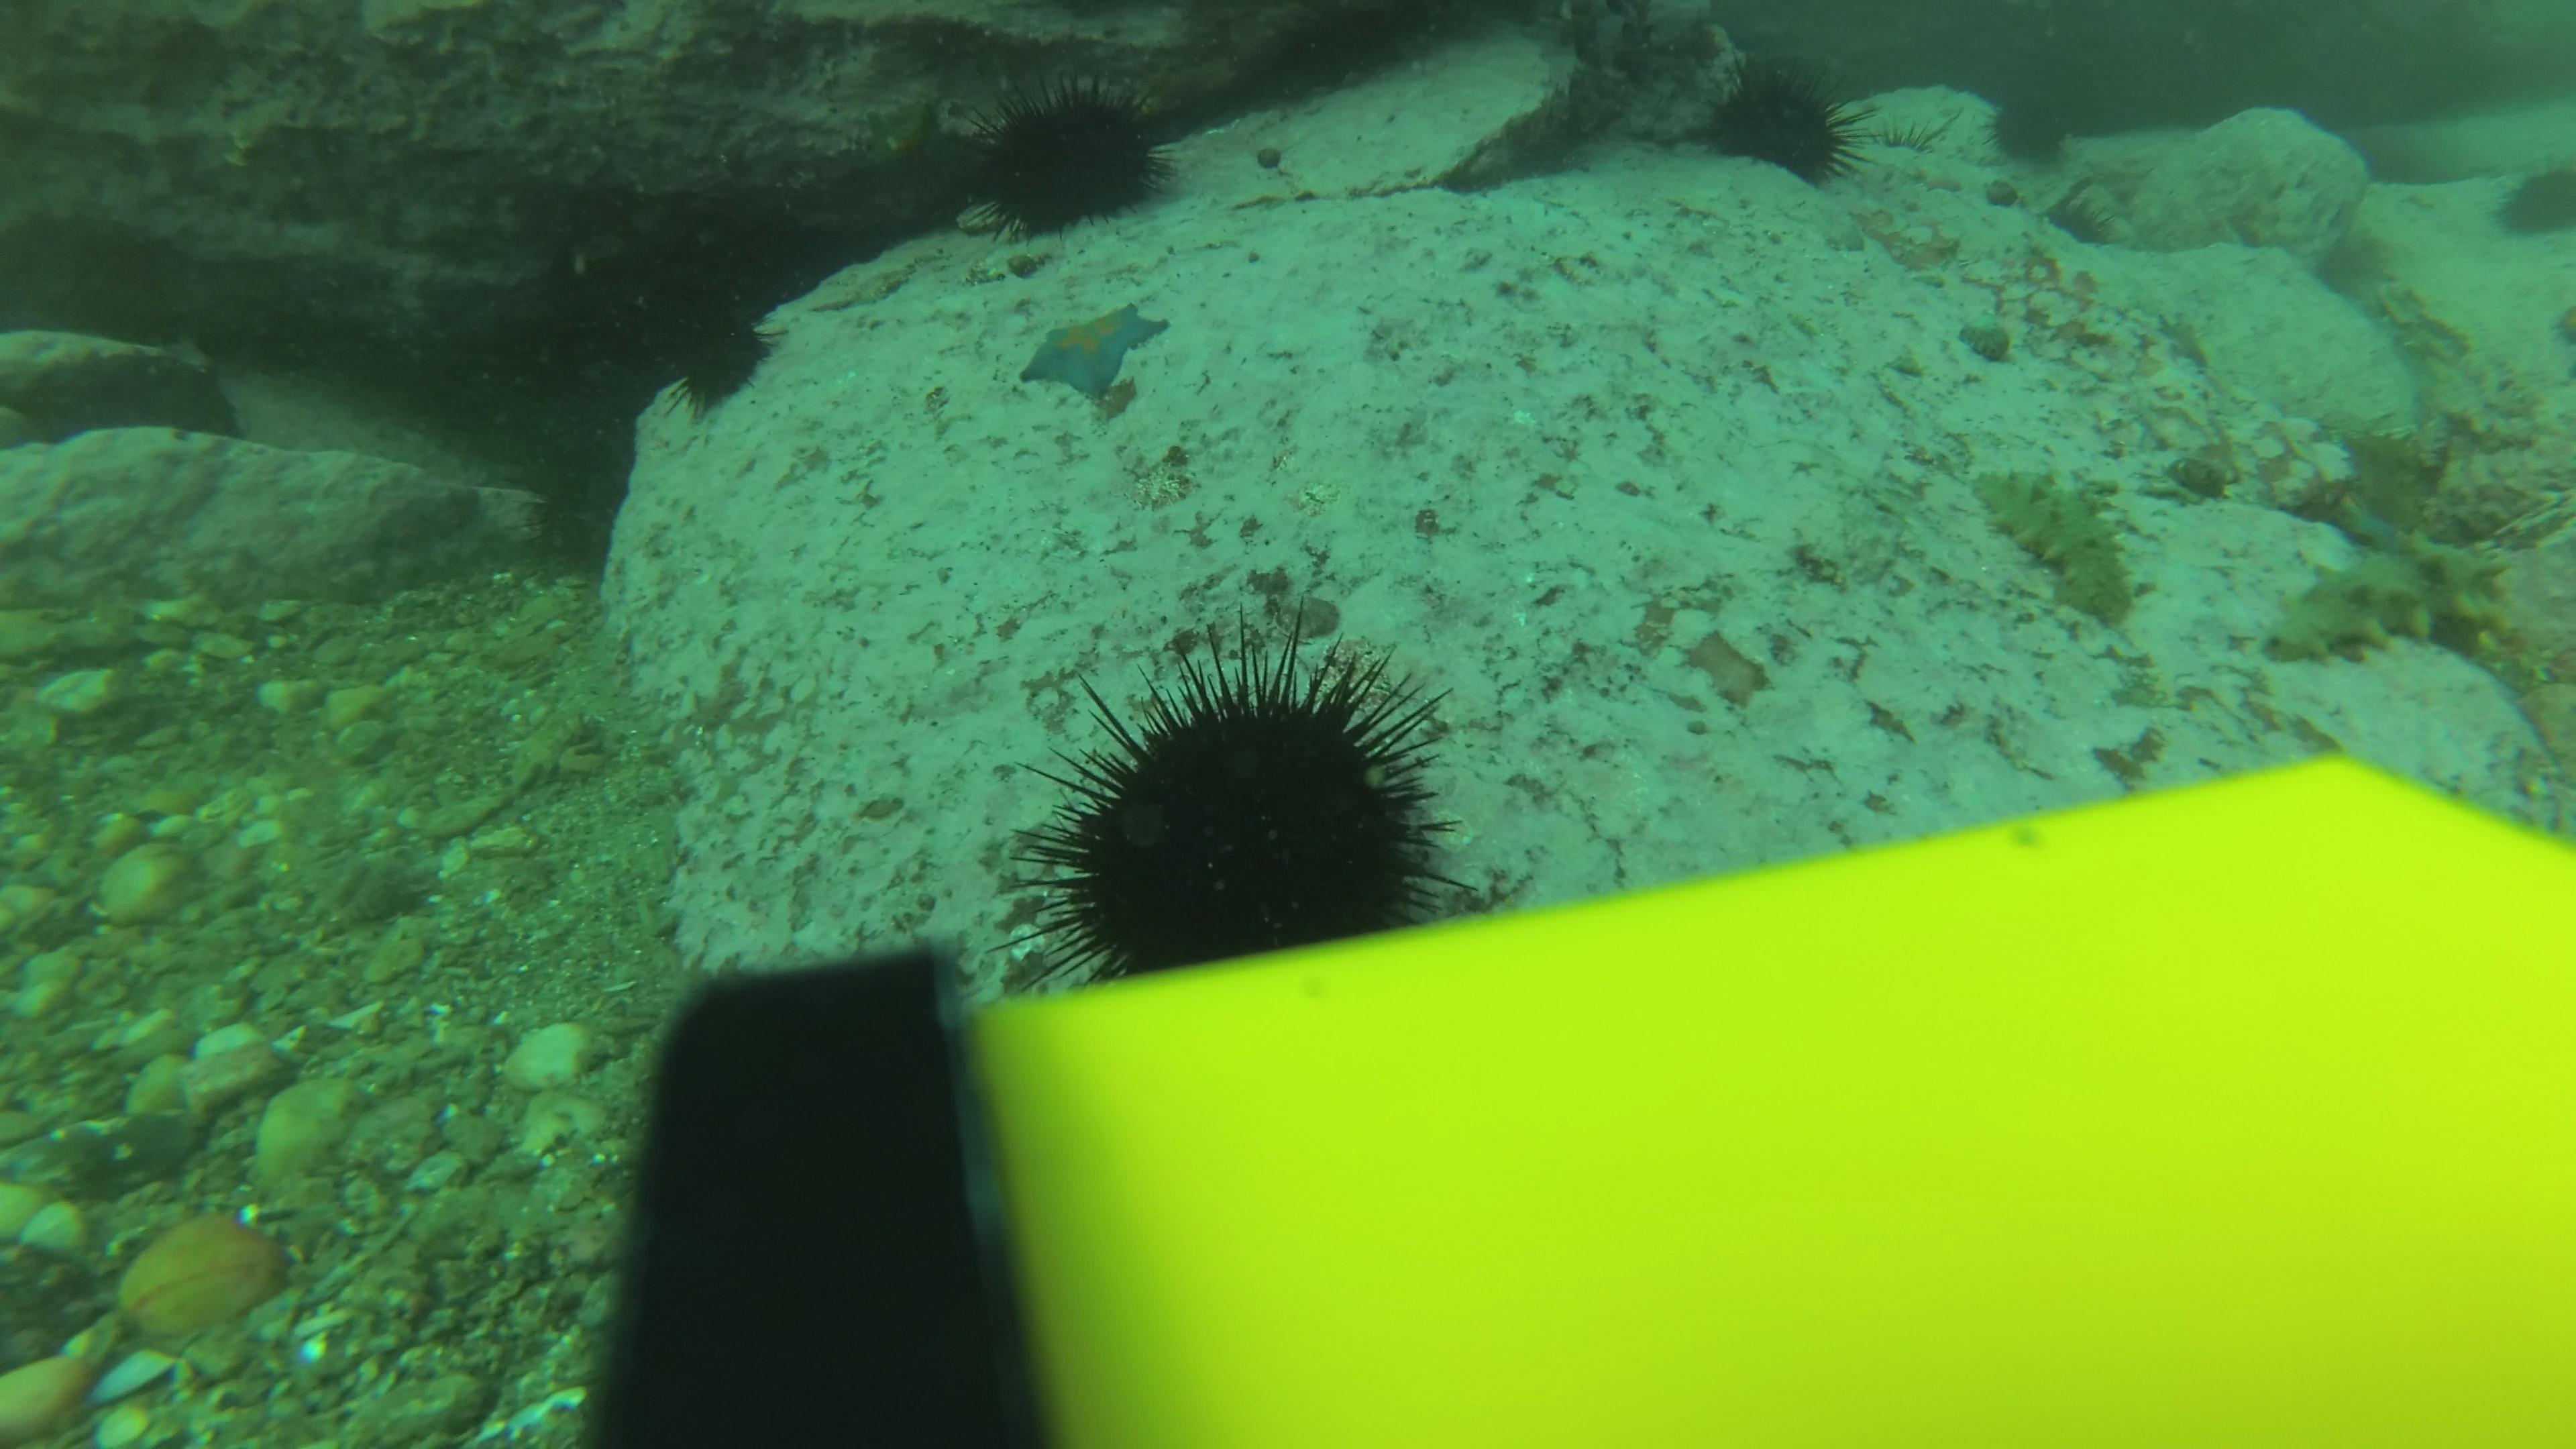urchin: (998, 656, 1479, 924), (970, 60, 1178, 219), (1697, 55, 1881, 203), (674, 308, 780, 402), (2502, 143, 2576, 230)
